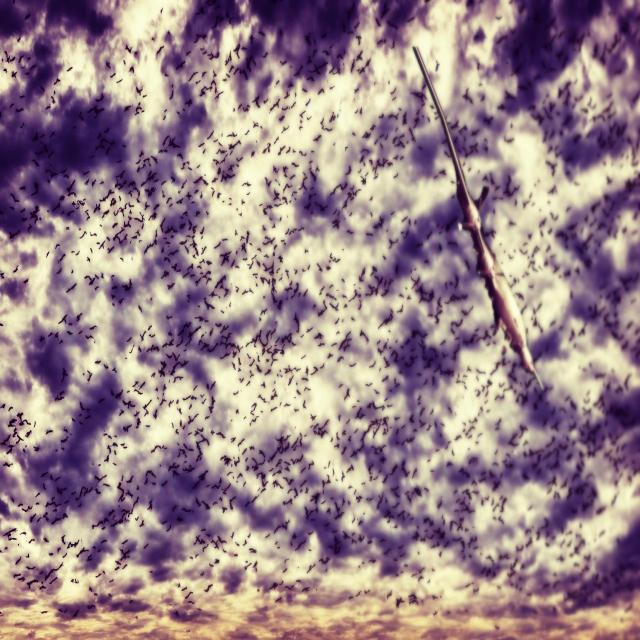airplane: (412, 45, 544, 391)
